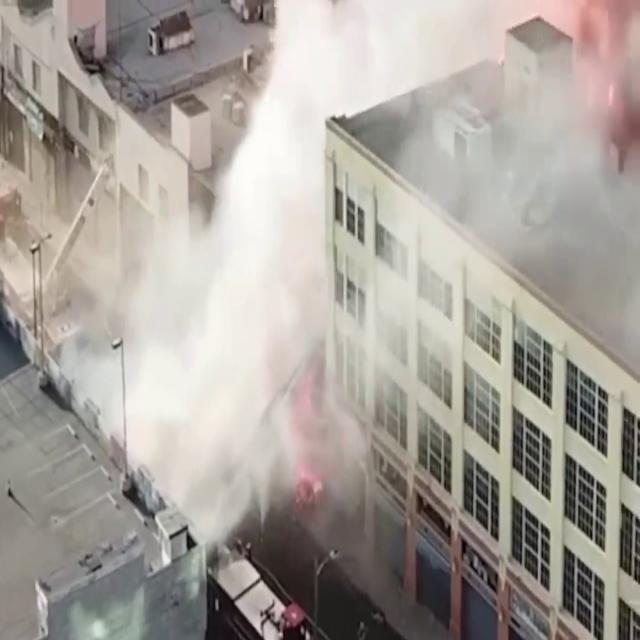Smoke: (98, 2, 406, 535), (466, 2, 640, 350)
